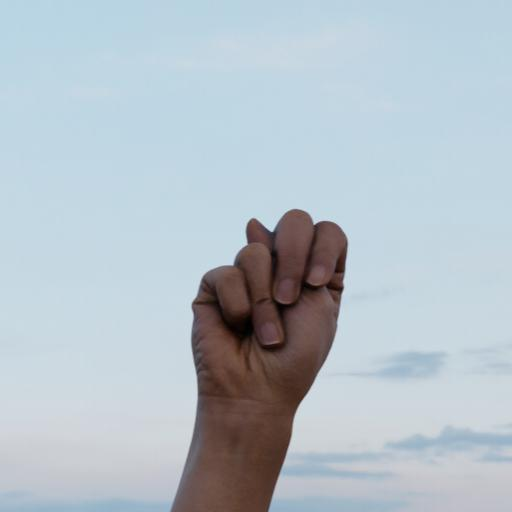N: (176, 201, 354, 426)
